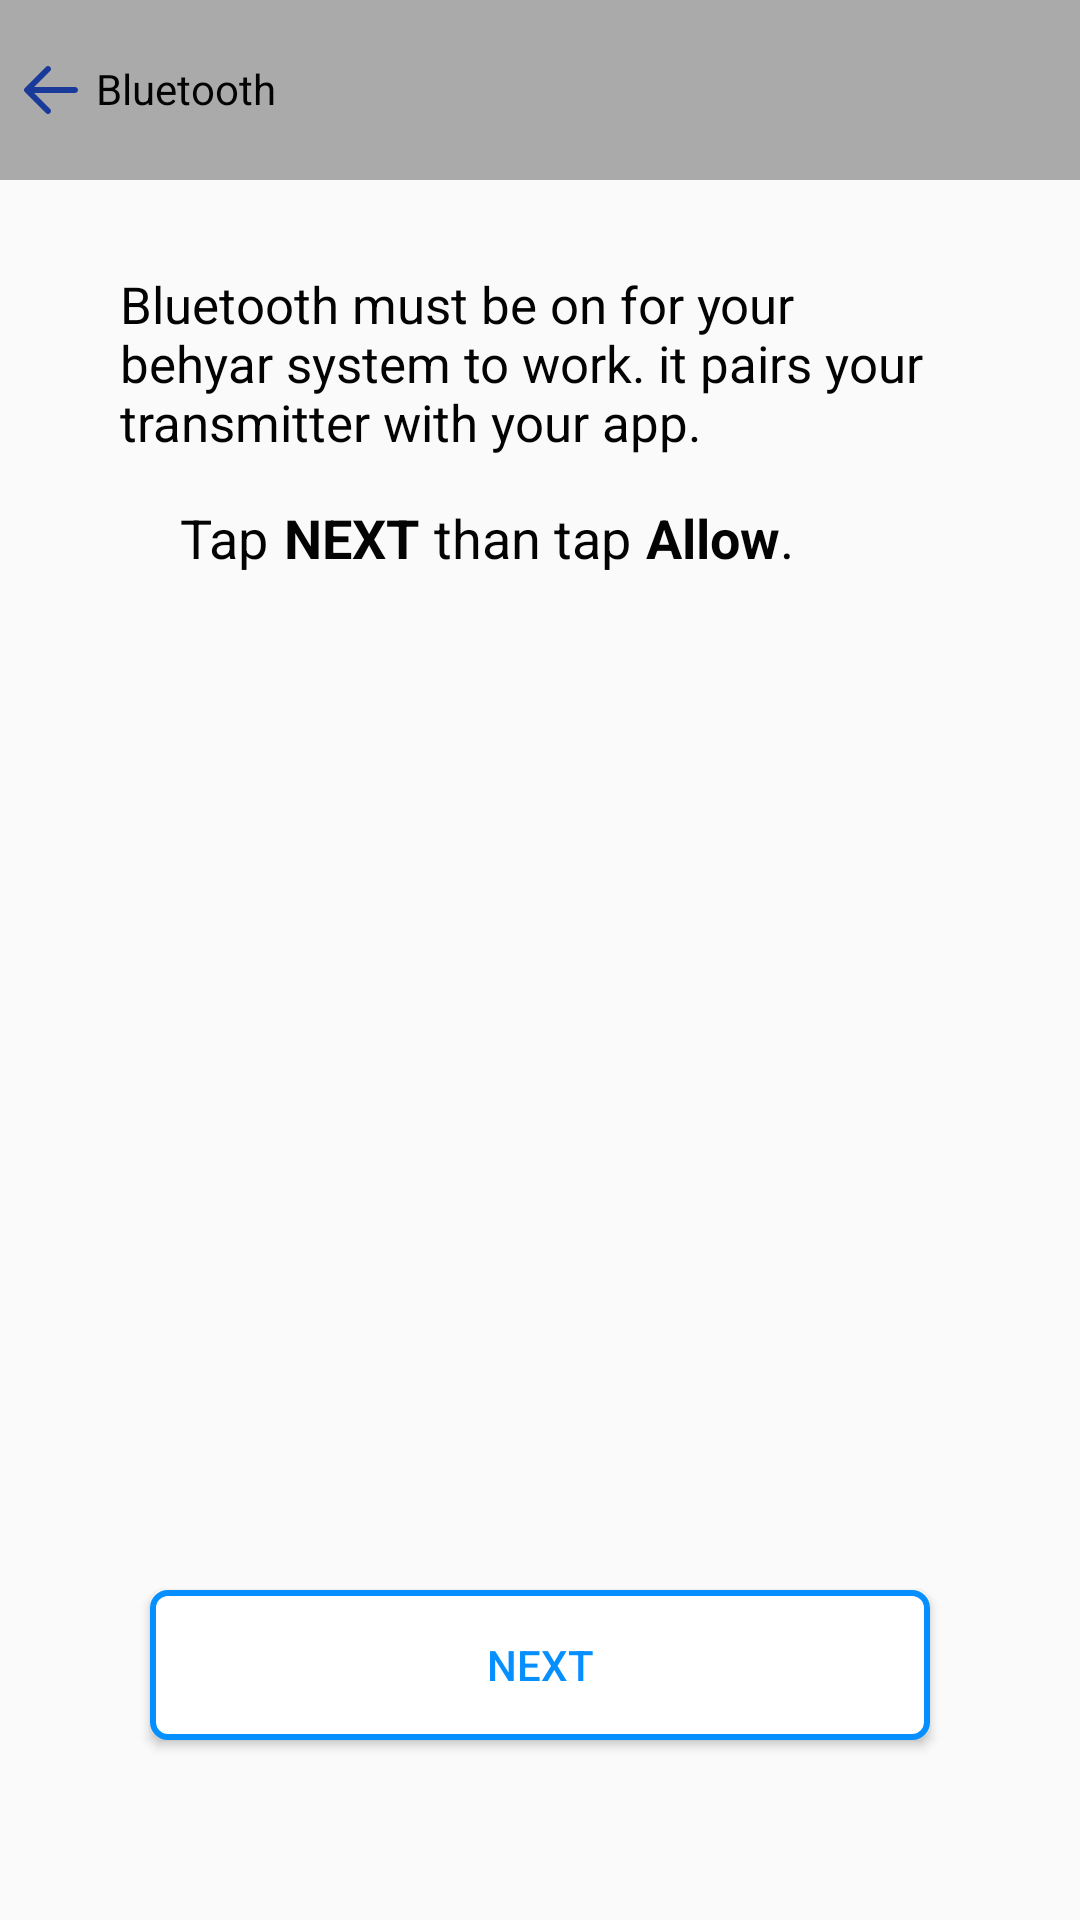

Where icons sit on this 1080x1920 app screen, as box(x1, y1, x2, y2):
left: box(24, 66, 78, 114)
